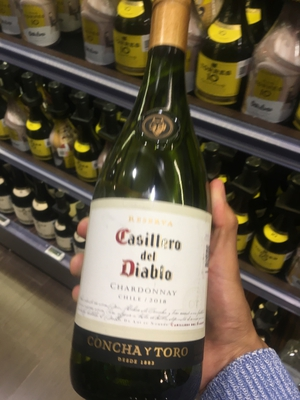casillero del diablo chardonnay: (75, 11, 214, 400)
